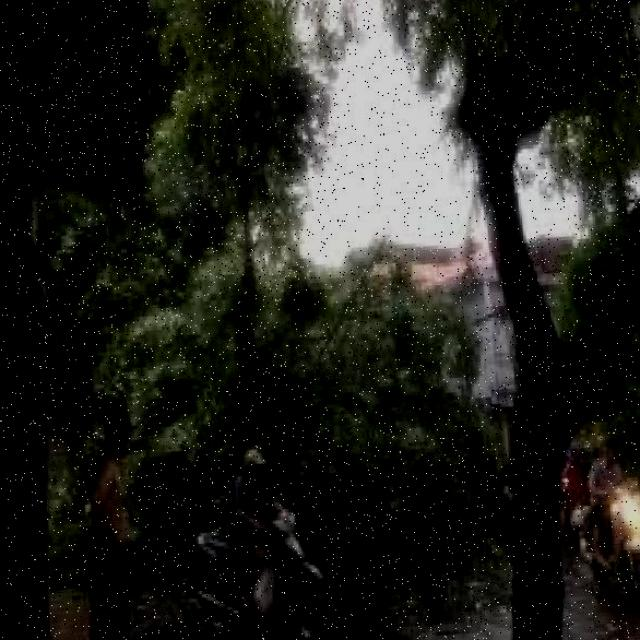fallen_object: (74, 225, 528, 610)
